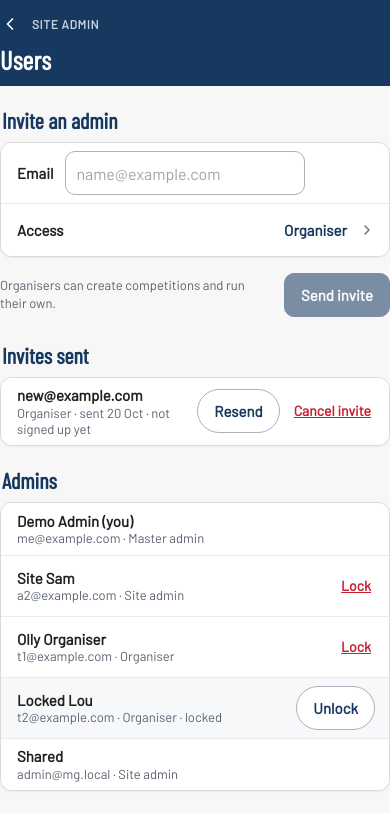
Test case: UsersPage › sends an invite for an organiser or a site admin, then lists it
Type "ann@example.com" into the field with placeholder "name@example.com" at {"x": 185, "y": 174}, box [65,152,305,196]
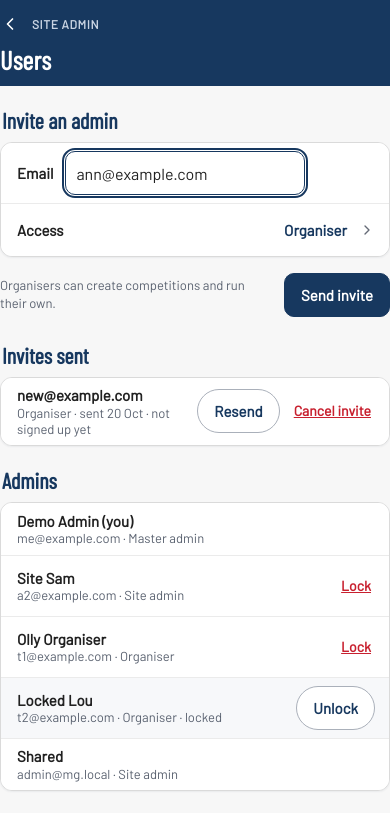
Click the button with aria-label "Access: Organiser" at {"x": 40, "y": 230}, box [1,204,389,256]
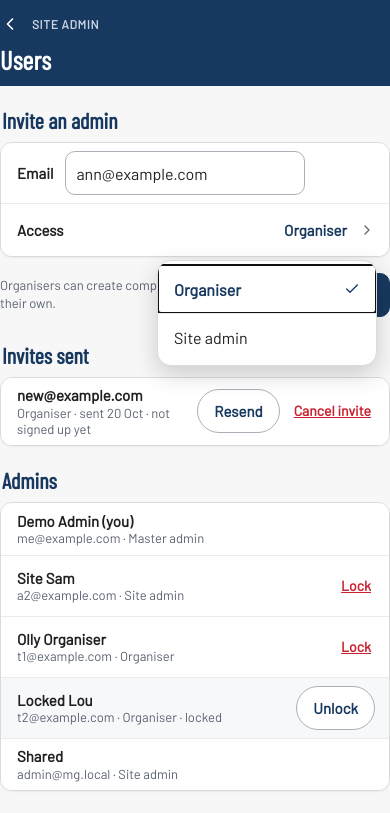
Click the option "Site admin" at {"x": 267, "y": 338}, box [158,314,376,362]
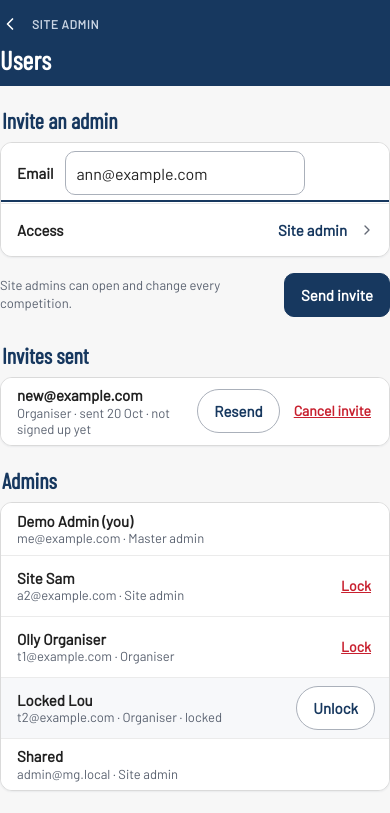
Expected: the text "Site admins can open and change every competition." is shown, [0,278,220,311]
Click the button "Send invite" at {"x": 337, "y": 295}, box [284,273,389,317]
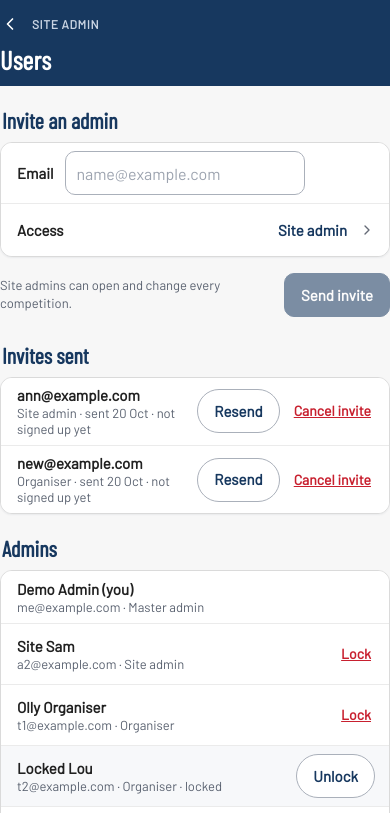
Expected: the text "ann@example.com" is shown, [17,386,140,404]
Expected: the field with placeholder "name@example.com" is empty, [65,152,305,196]
